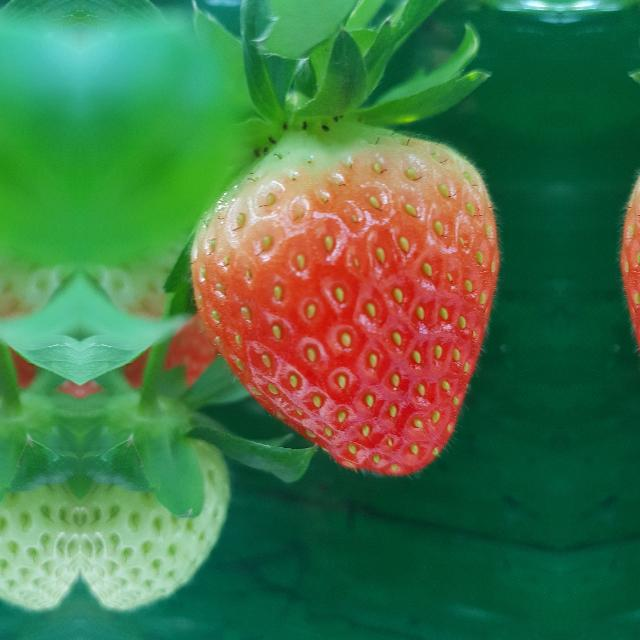Health_75: (189, 121, 501, 477)
